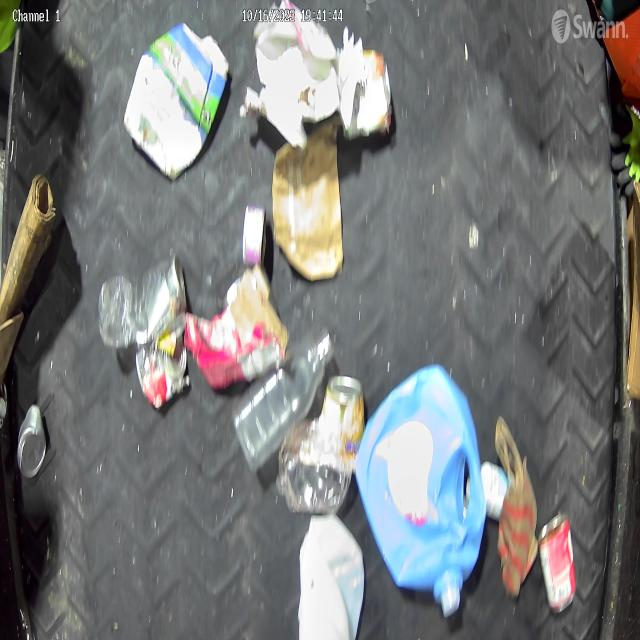can: (134, 253, 188, 349), (317, 373, 366, 474), (537, 512, 577, 616), (135, 335, 187, 409), (16, 405, 46, 480), (242, 204, 268, 270)
milk_jug: (297, 511, 367, 640)
non_white_jug: (354, 363, 488, 618)
plastic_bottle: (232, 324, 334, 477)
